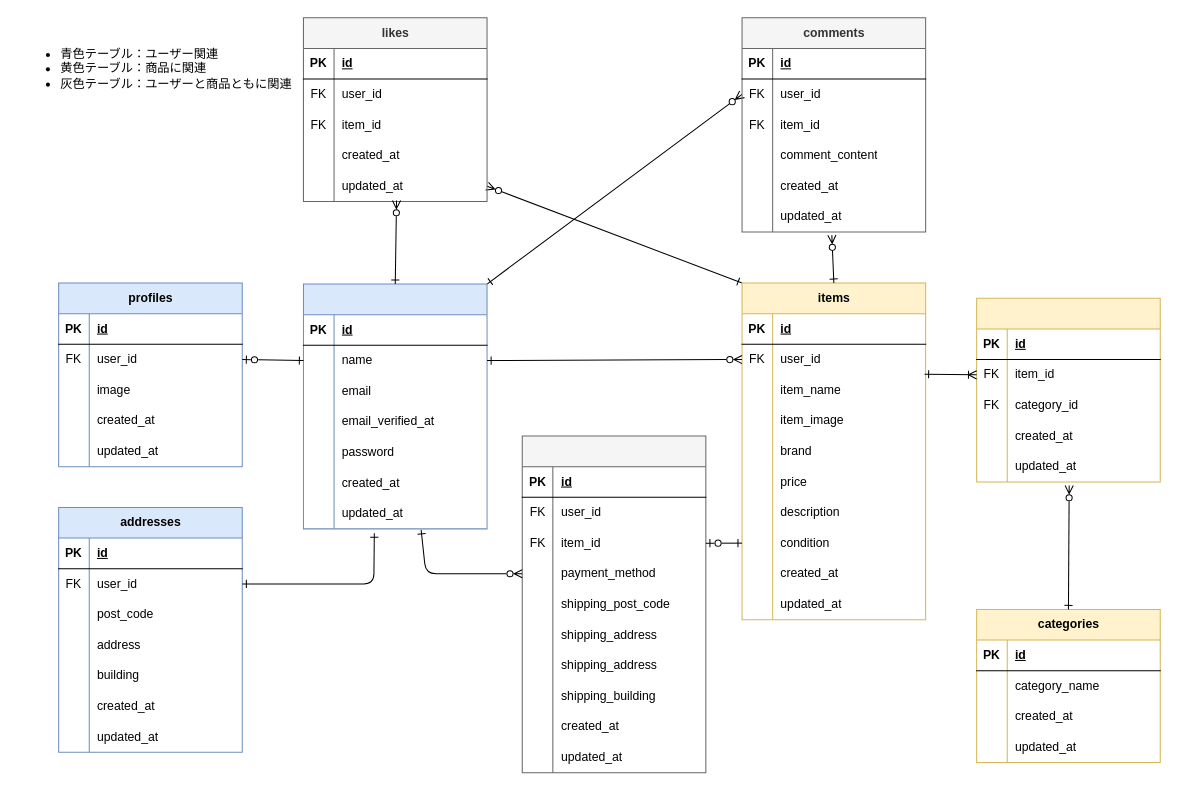
Image size: 1178x791. Some labels were removed from this diagram. Each missing label, with the box of its shape:
category_item: (976, 297, 1160, 482)
purchases: (521, 435, 706, 773)
users: (302, 283, 487, 529)
